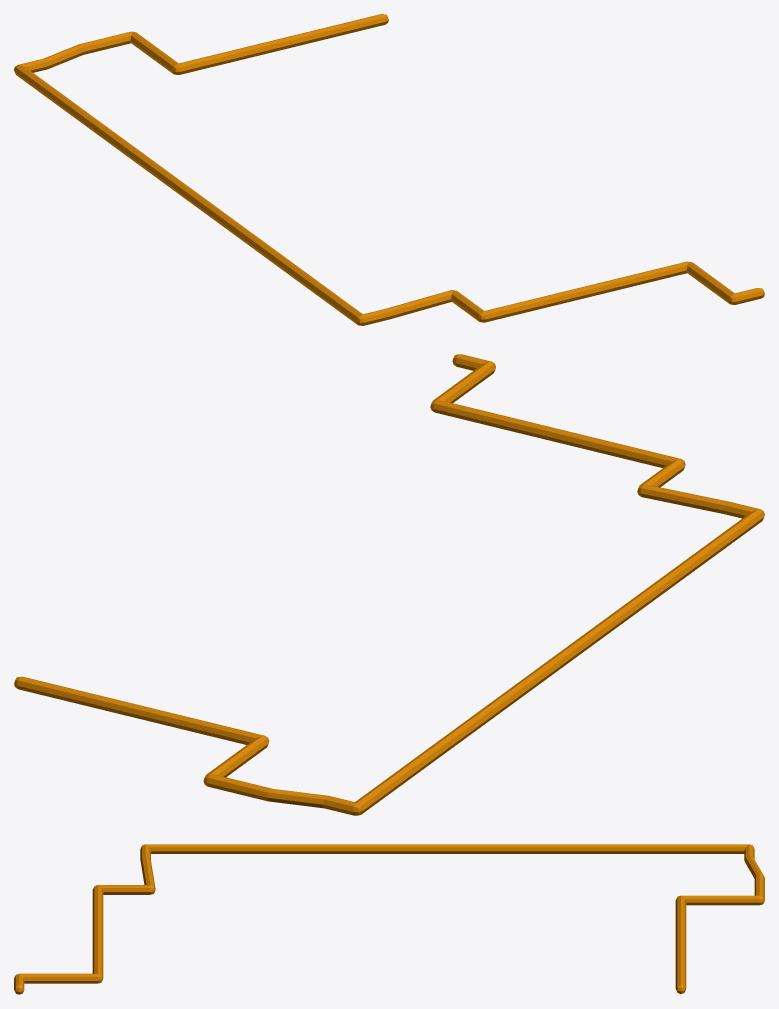
3 views of the same model, one above another, from view 1: azimuth 30°, elevation 25°; view 2: azimuth 150°, elevation 25°; view 3: azimuth 270°, elevation 25° (orthographic). The views are drawn at different scales.
Bounding box in the file's own units: 654 × 20 × 1430.
